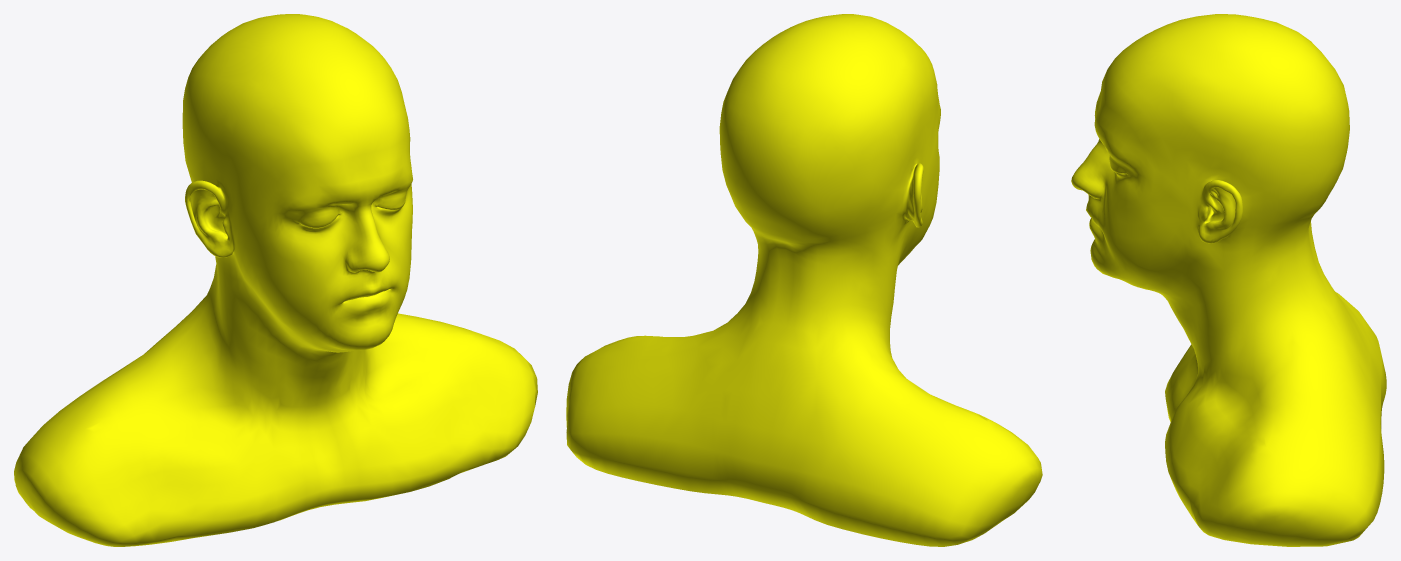
3 views of the same model, side by side, from view 1: azimuth 30°, elevation 25°; view 2: azimuth 150°, elevation 25°; view 3: azimuth 270°, elevation 25° (orthographic). The views are drawn at different scales.
Parts seen in each view (by area): view 1: head; view 2: head; view 3: head.
Part boxes in pixels (box(x1,y1,x2,y2)): head: box(14, 14, 537, 546); head: box(566, 14, 1042, 546); head: box(1071, 14, 1386, 546).
Bounding box in the file's own units: 45.33 × 42.11 × 27.46.
1 material, 1 textured.
